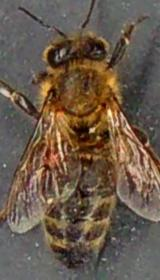varroa_mite: (36, 143, 64, 168)
